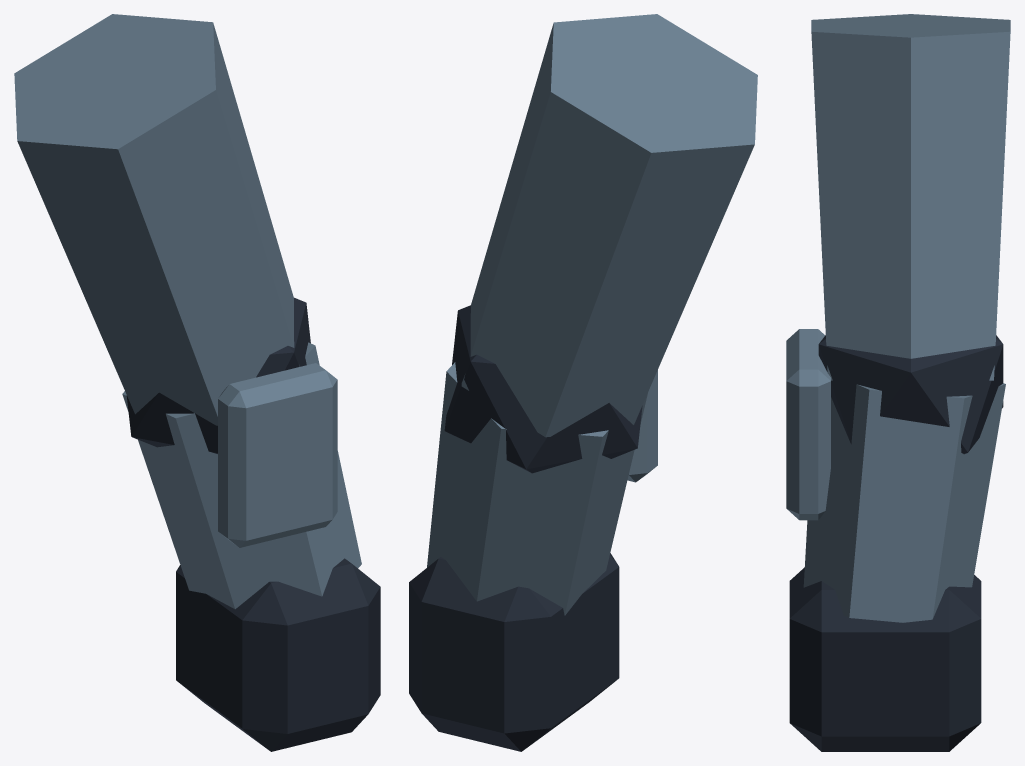
File: SM_NPC_ArmL_002_Armor.glb
The picture shows the model from 3 angles, left to right: view 1: azimuth 30°, elevation 25°; view 2: azimuth 150°, elevation 25°; view 3: azimuth 270°, elevation 25°; orthographic projection. The views are drawn at different scales.
Parts seen in each view (by area): view 1: SM_NPC_ArmL_002_Armor; view 2: SM_NPC_ArmL_002_Armor; view 3: SM_NPC_ArmL_002_Armor.
Part boxes in pixels (x1=…): SM_NPC_ArmL_002_Armor: x1=14, y1=14, x2=380, y2=751; SM_NPC_ArmL_002_Armor: x1=409, y1=14, x2=757, y2=751; SM_NPC_ArmL_002_Armor: x1=786, y1=14, x2=1010, y2=751.
Size of the model in its own units: 0.275 by 0.5794 by 0.1754.
